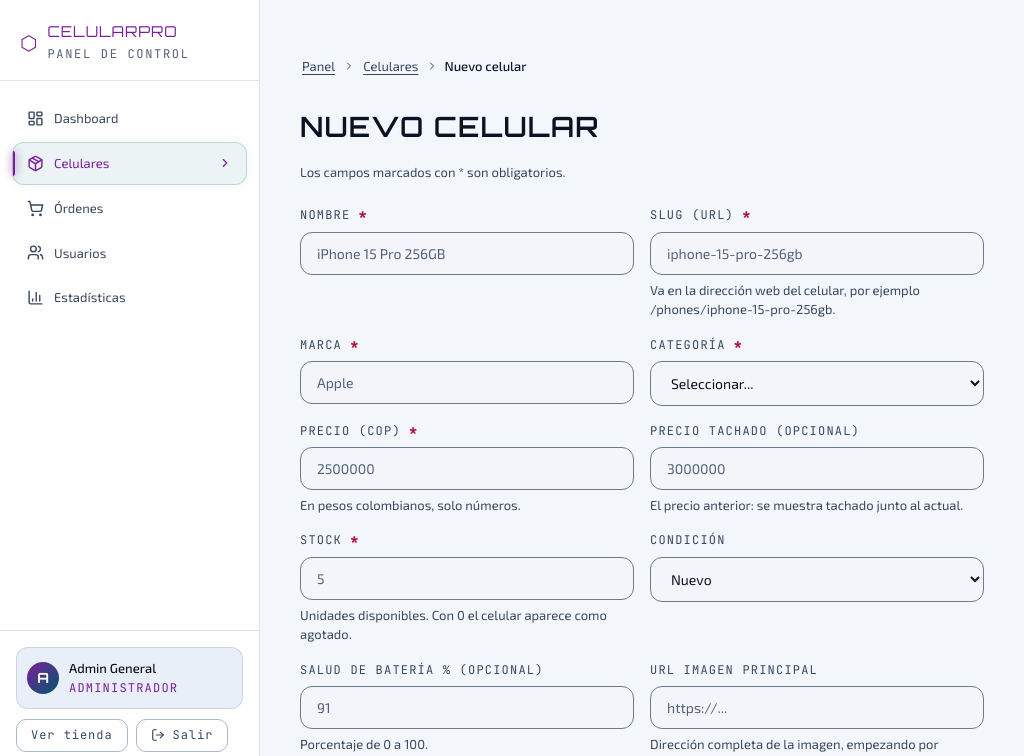
Test: ESC-30 · Regresión (front) — administración del catálogo › Crear › con {"Nombre":"ab"} muestra "Mínimo 3 caracteres" y no envía nada
Expected: the heading "Nuevo celular" is shown, x1=300 y1=109 x2=599 y2=144
In the field labelled "Nombre": point(467, 253) x1=300 y1=232 x2=634 y2=275, type "ab"
In the field labelled "Slug (URL)": point(817, 253) x1=650 y1=232 x2=984 y2=275, type "galaxy-s24"
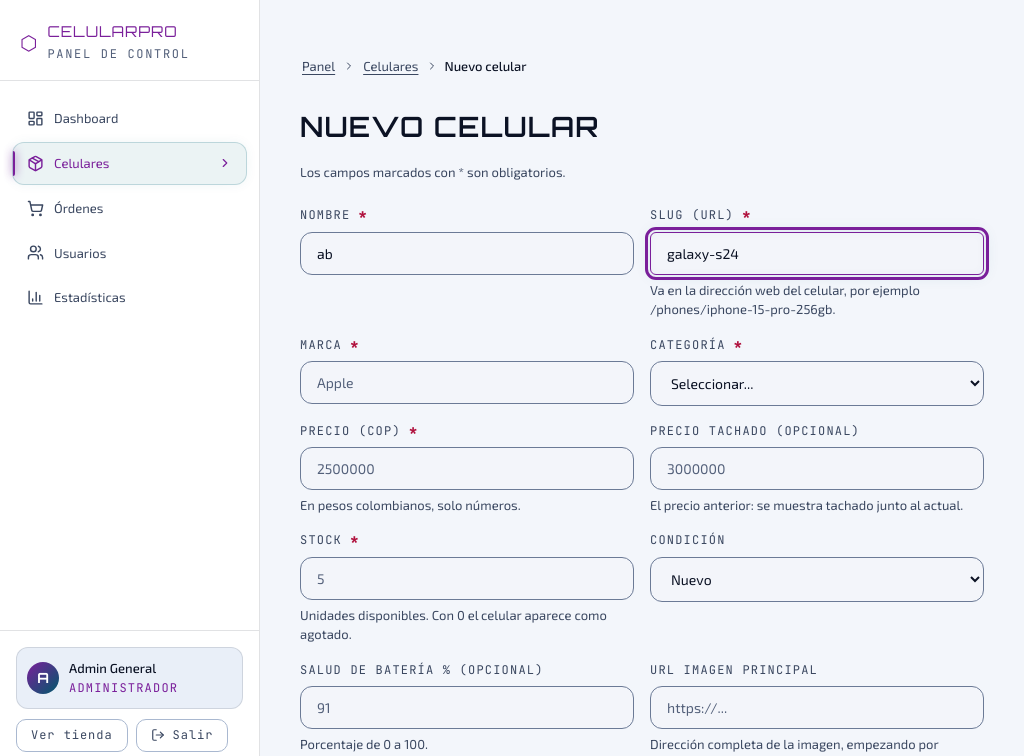
In the field labelled "Marca": point(467, 382) x1=300 y1=361 x2=634 y2=404, type "Samsung"
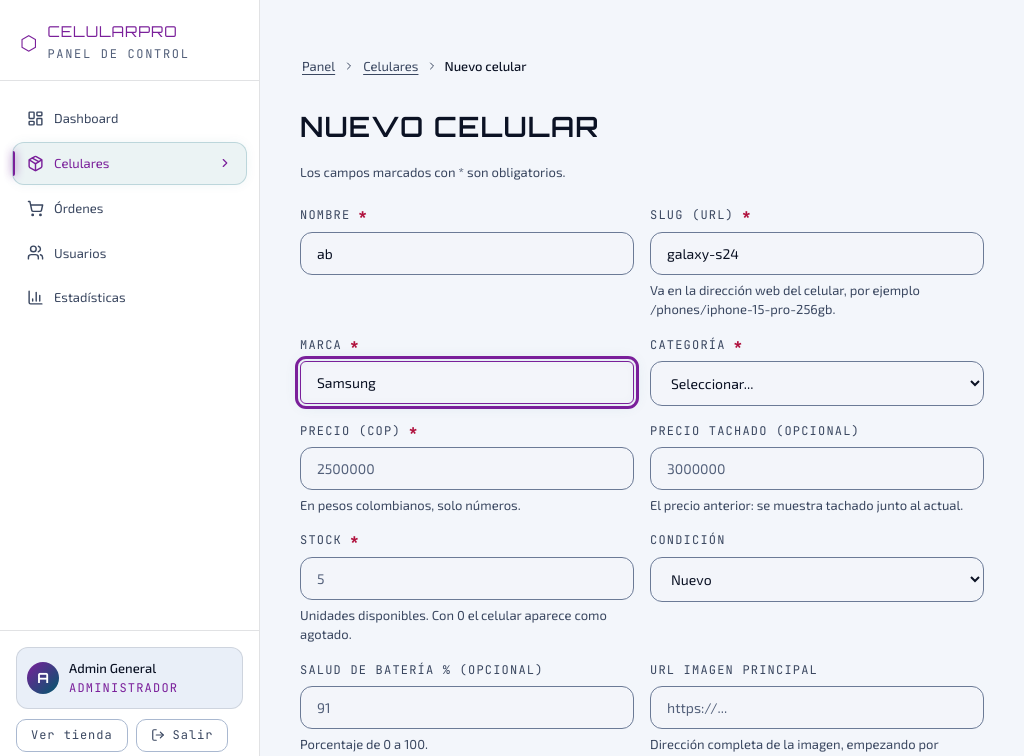
In the number field labelled "Precio (COP)": point(467, 468) x1=300 y1=447 x2=634 y2=490, type "3500000"
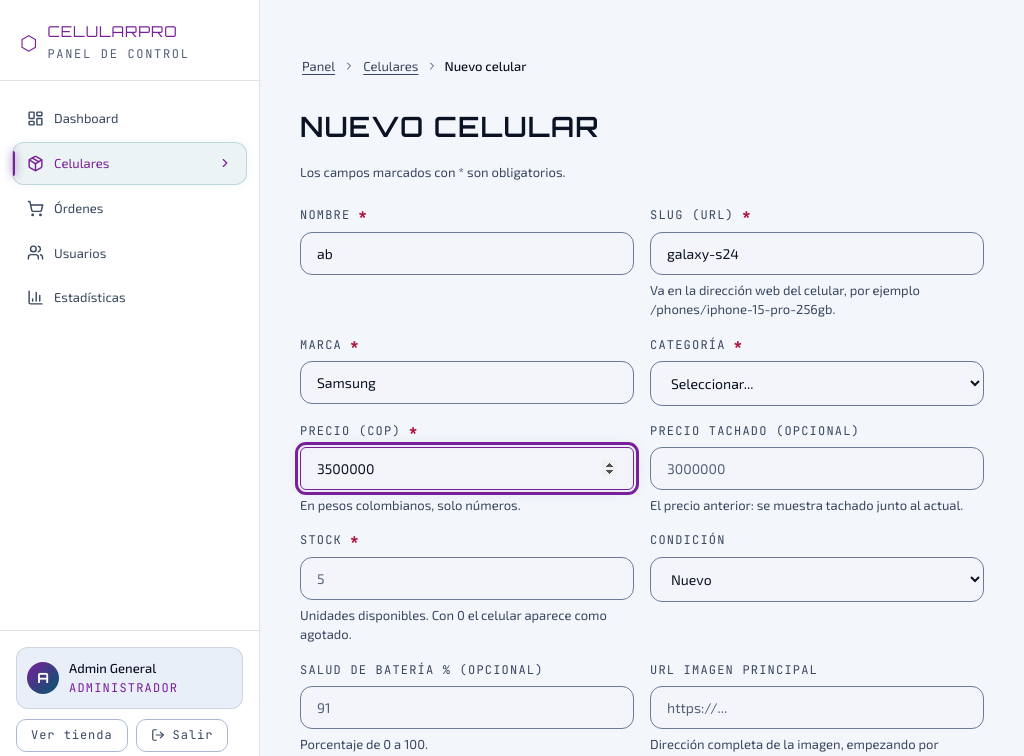
In the number field labelled "Stock": point(467, 578) x1=300 y1=557 x2=634 y2=600, type "4"
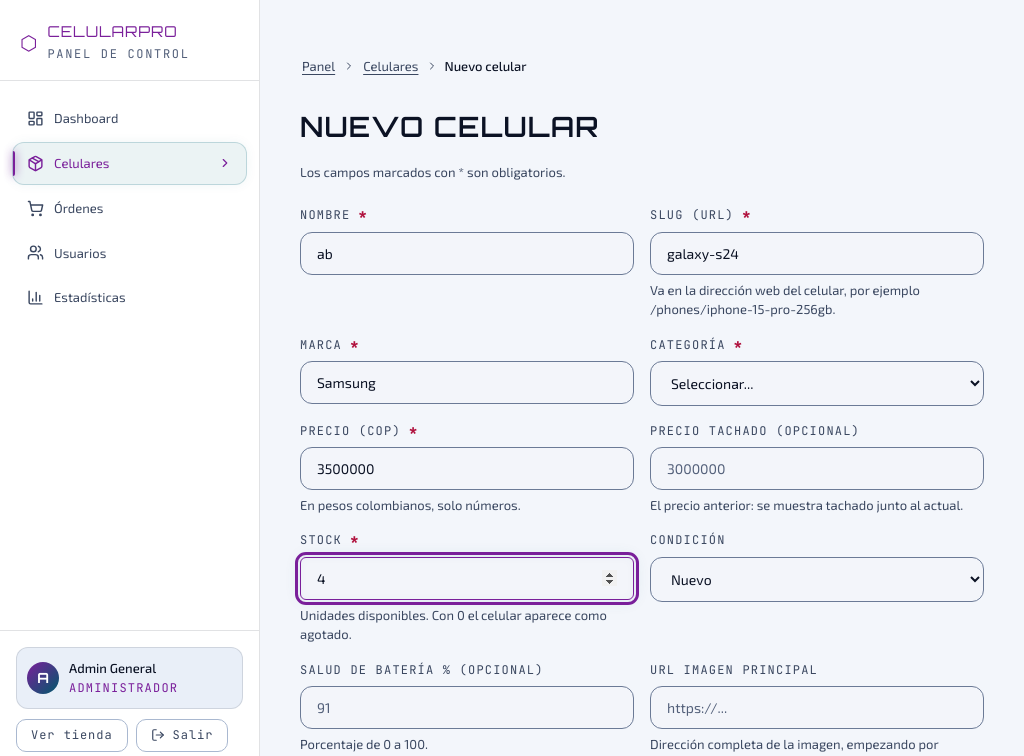
Select "Samsung" in the dropdown labelled "Categoría": point(817, 383) x1=650 y1=361 x2=984 y2=406
(page scrolled)
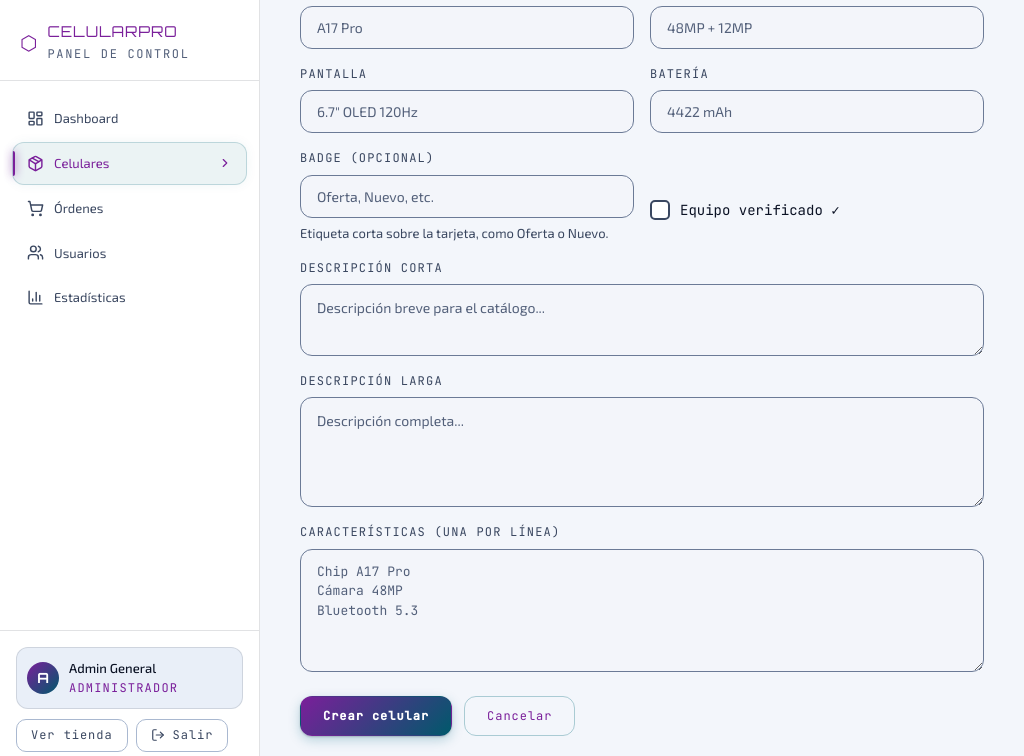
Click the button "Crear celular": point(376, 716) x1=300 y1=696 x2=452 y2=736
(page scrolled)
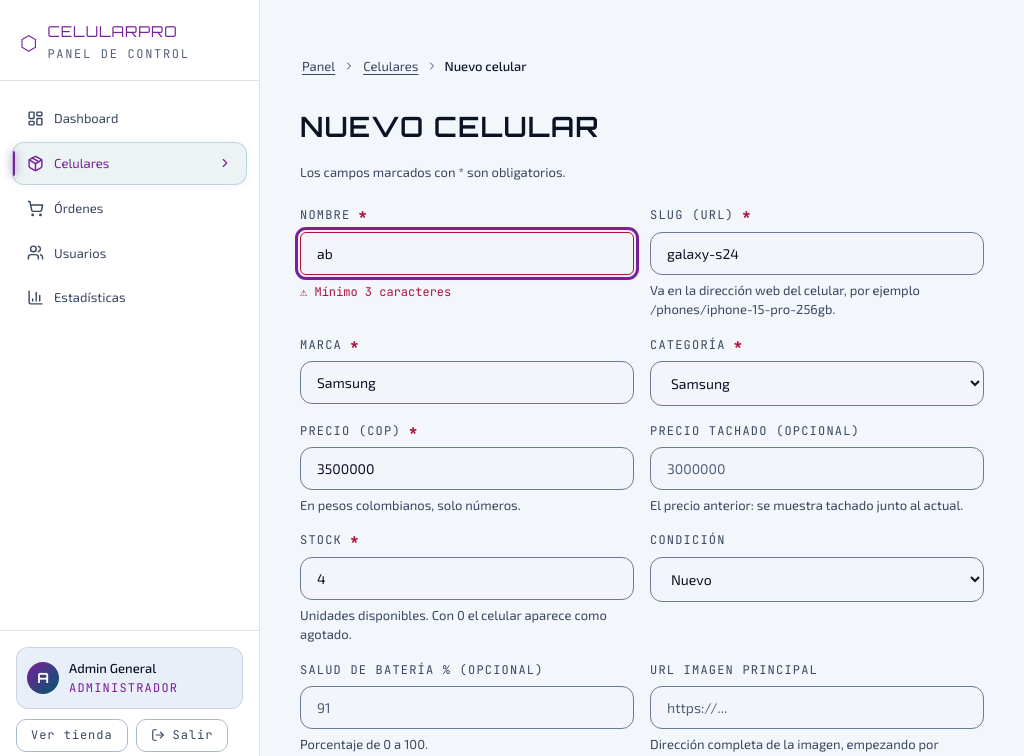
Expected: the text "Mínimo 3 caracteres" is shown, x1=314 y1=284 x2=451 y2=300
